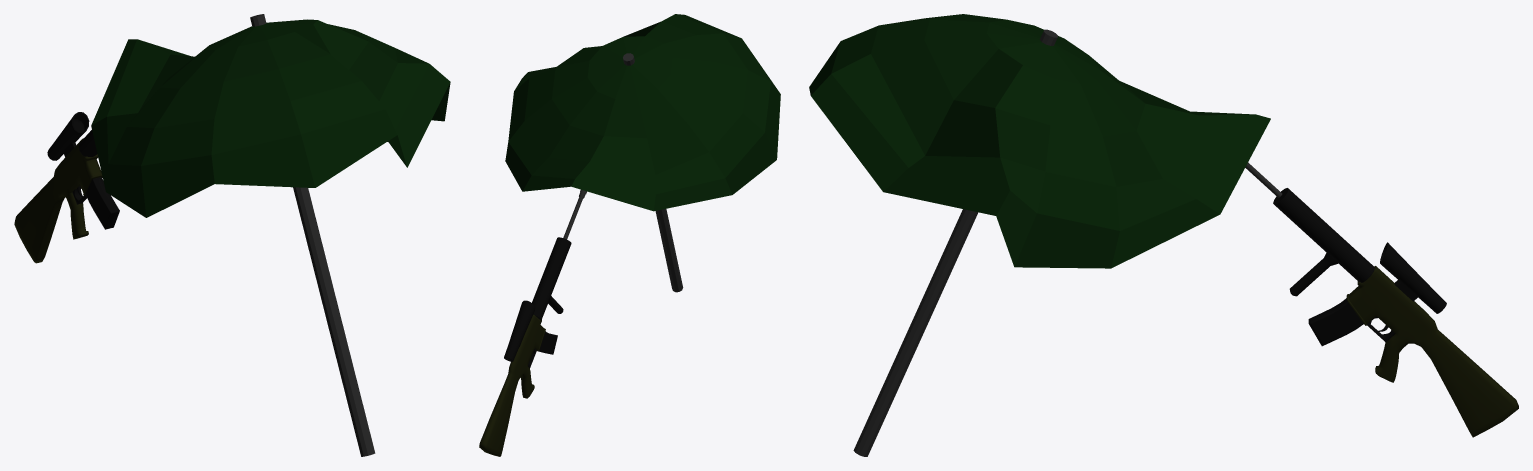
File: umbrella.obj
3 renders of one model, left to right at view 1: azimuth 30°, elevation 25°; view 2: azimuth 150°, elevation 25°; view 3: azimuth 270°, elevation 25°, orthographic. The views are drawn at different scales.
Parts seen in each view (by area): view 1: polySurface722, polySurface733; view 2: polySurface722, polySurface733; view 3: polySurface722, polySurface733.
Boxes of the visible parts, bbox=[...] form: polySurface722: bbox=[91, 14, 450, 456]; polySurface733: bbox=[14, 112, 119, 263]; polySurface722: bbox=[505, 14, 780, 292]; polySurface733: bbox=[479, 189, 586, 456]; polySurface722: bbox=[809, 14, 1270, 456]; polySurface733: bbox=[1245, 162, 1518, 437].
Bounding box in the file's own units: 9.9 × 11.33 × 17.42.
